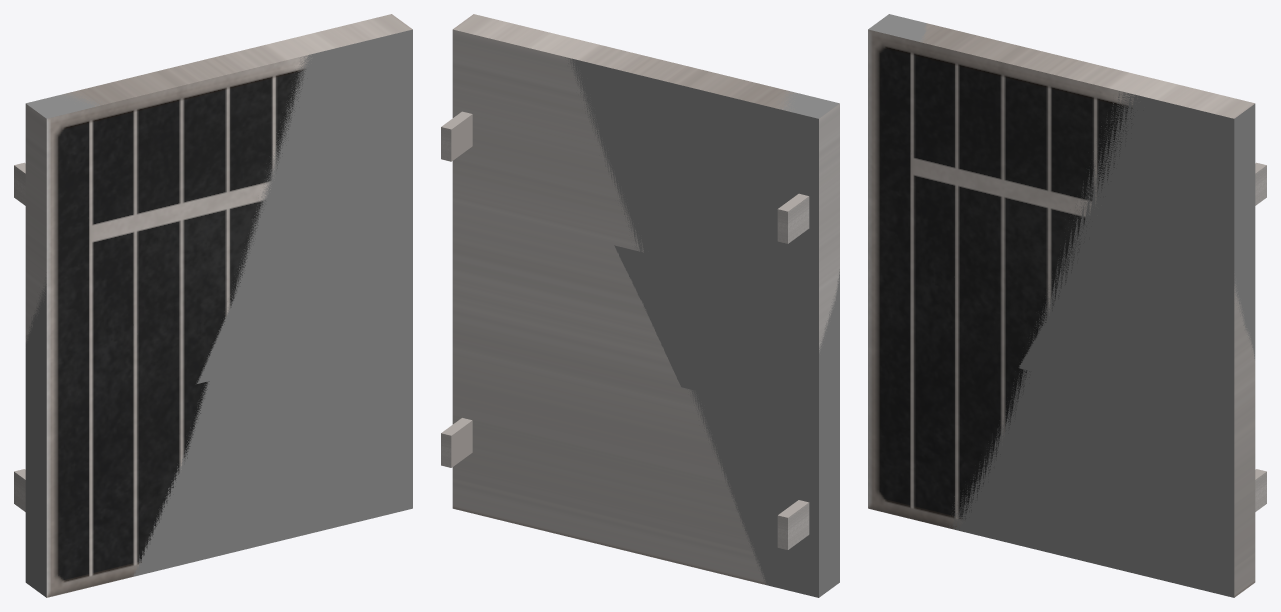
File: Solar_Mini.FBX
The picture shows the model from 3 angles, left to right: view 1: azimuth 30°, elevation 25°; view 2: azimuth 150°, elevation 25°; view 3: azimuth 330°, elevation 25°; orthographic projection.
Visible parts, largest first — view 1: Solar_Mini, Solar_Mini_Col, suncatcher; view 2: Solar_Mini, Solar_Mini_Col, suncatcher; view 3: Solar_Mini, Solar_Mini_Col, suncatcher.
Boxes of the visible parts, box(x1,y1,x2,y2) form: Solar_Mini: box(14, 14, 412, 597); Solar_Mini_Col: box(25, 29, 412, 597); suncatcher: box(196, 235, 292, 383); Solar_Mini: box(441, 14, 839, 584); Solar_Mini_Col: box(565, 57, 839, 597); suncatcher: box(614, 245, 698, 391); Solar_Mini: box(868, 23, 1266, 597); Solar_Mini_Col: box(868, 14, 1255, 597); suncatcher: box(1018, 260, 1114, 391).
Bounding box in the file's own units: 20 × 25 × 4.
Materials: 2 (1 with a texture image).
